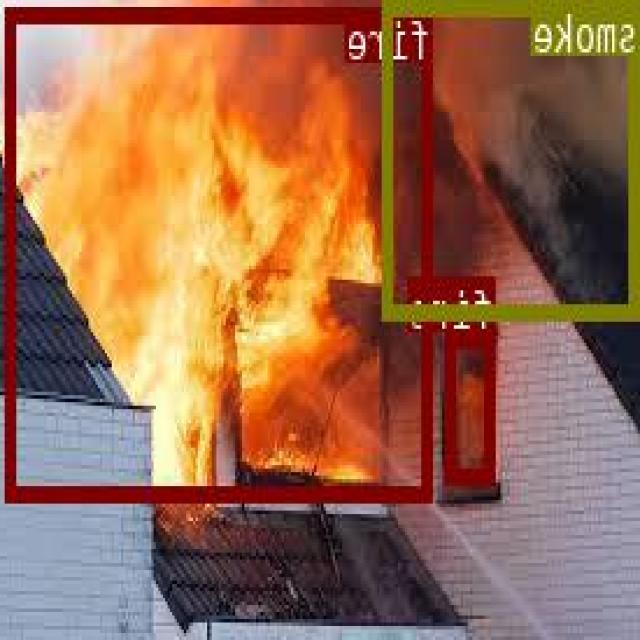fire: (8, 6, 434, 499), (449, 330, 498, 480)
smoke: (384, 0, 640, 315)
